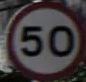Speed limit: (9, 4, 79, 73)
